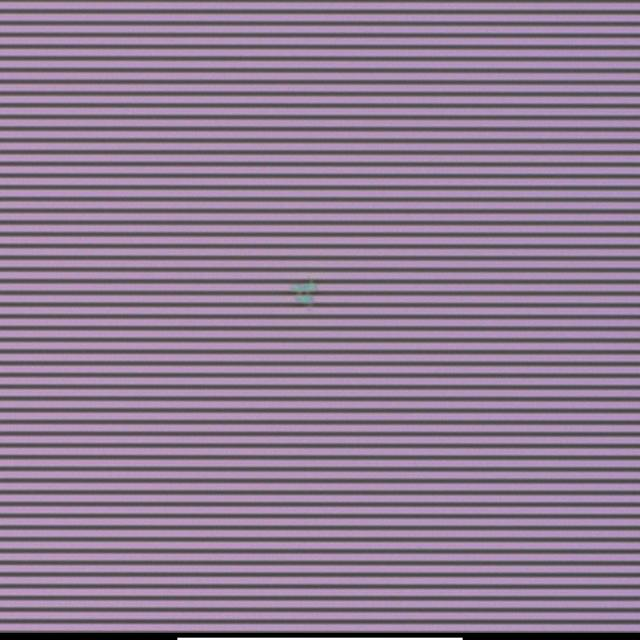03_intrusion: (291, 277, 324, 315)
